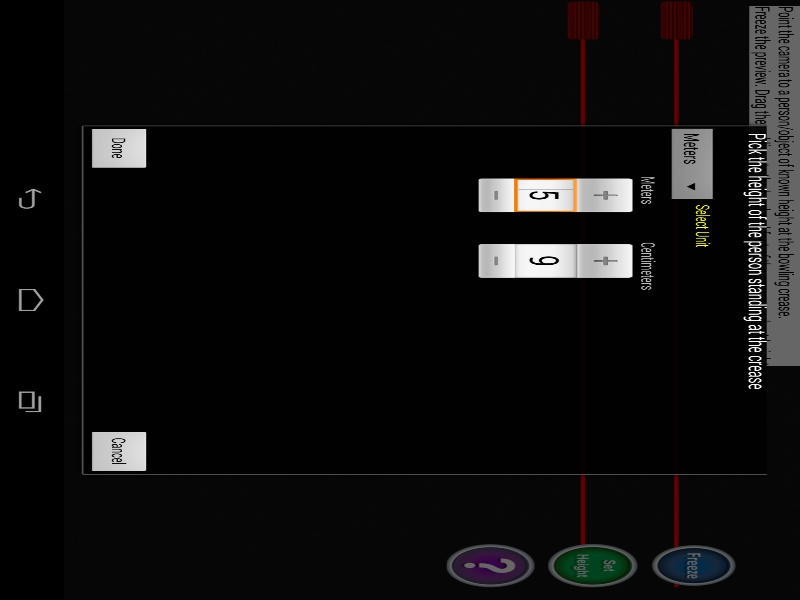Button: (270, 305, 363, 335), (376, 76, 456, 104), (516, 76, 596, 104), (376, 134, 456, 151), (516, 134, 596, 151)
Input: (376, 104, 456, 134), (516, 104, 596, 134)
